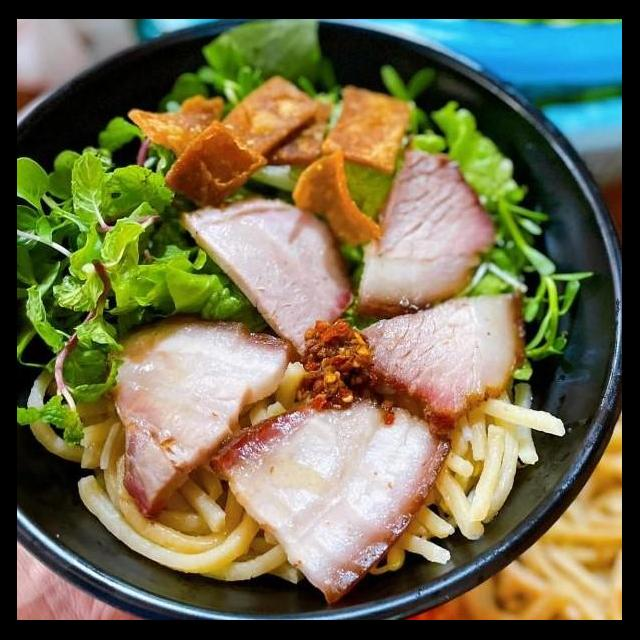banh da: (216, 72, 336, 170), (160, 116, 274, 214), (288, 138, 386, 250), (320, 80, 418, 178), (125, 92, 228, 170)
mi: (383, 372, 570, 576), (73, 453, 304, 588), (26, 362, 130, 476)
mi quang: (18, 60, 622, 620)
thit heo: (206, 392, 454, 610), (96, 314, 300, 522), (174, 190, 358, 366), (322, 288, 532, 436), (348, 130, 502, 326)
